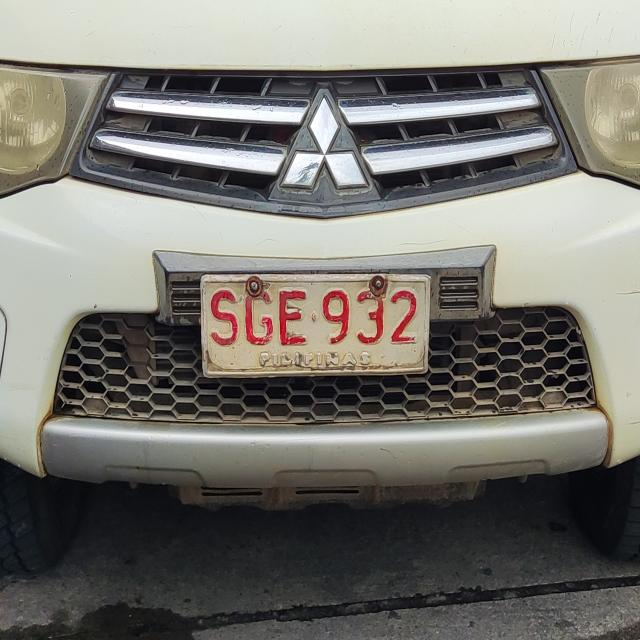plate: (195, 268, 438, 383)
